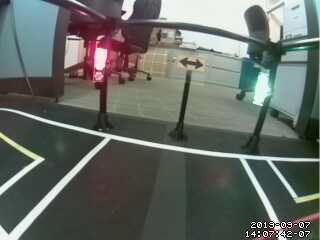Left_Right_sign: (174, 54, 215, 72)
Traffic_light_green: (255, 69, 269, 111)
Traffic_light_red: (93, 47, 109, 83)
